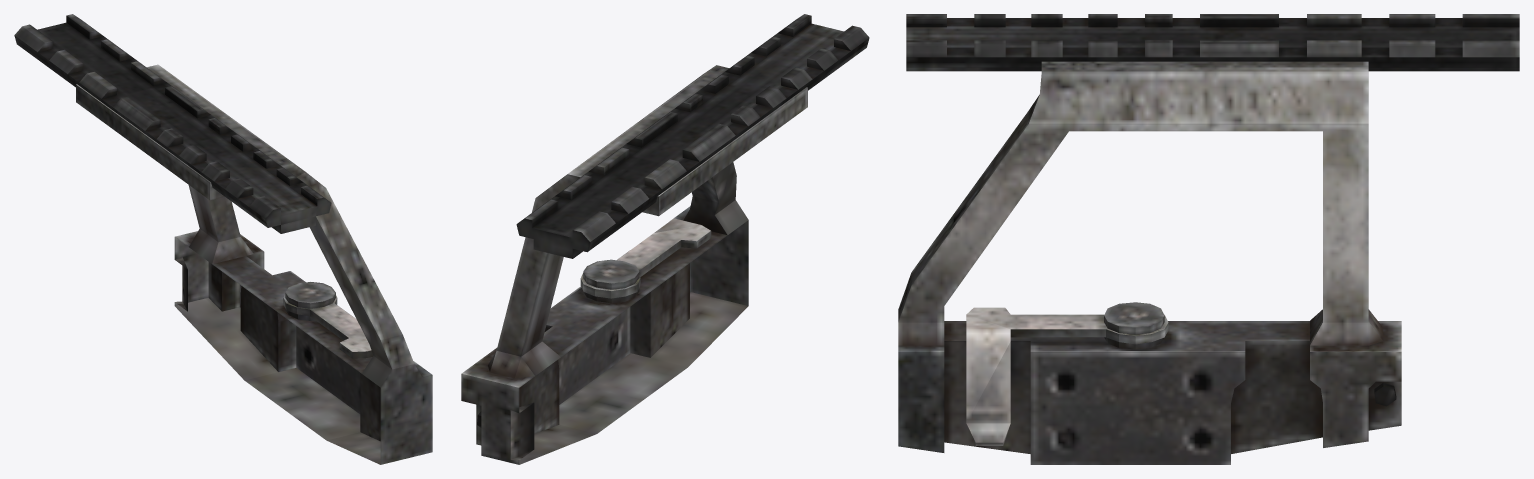
File: krep.obj
The picture shows the model from 3 angles, left to right: view 1: azimuth 30°, elevation 25°; view 2: azimuth 150°, elevation 25°; view 3: azimuth 270°, elevation 25°; orthographic projection. The views are drawn at different scales.
Visible parts, largest first — view 1: wpn34_kollimator; view 2: wpn34_kollimator; view 3: wpn34_kollimator.
Part boxes in pixels (box(x1,y1,x2,y2)): wpn34_kollimator: box(14, 14, 432, 464); wpn34_kollimator: box(461, 14, 869, 464); wpn34_kollimator: box(898, 14, 1519, 464).
Size of the model in its own units: 0.0493 by 0.0791 by 0.1244.
1 material, 1 textured.
